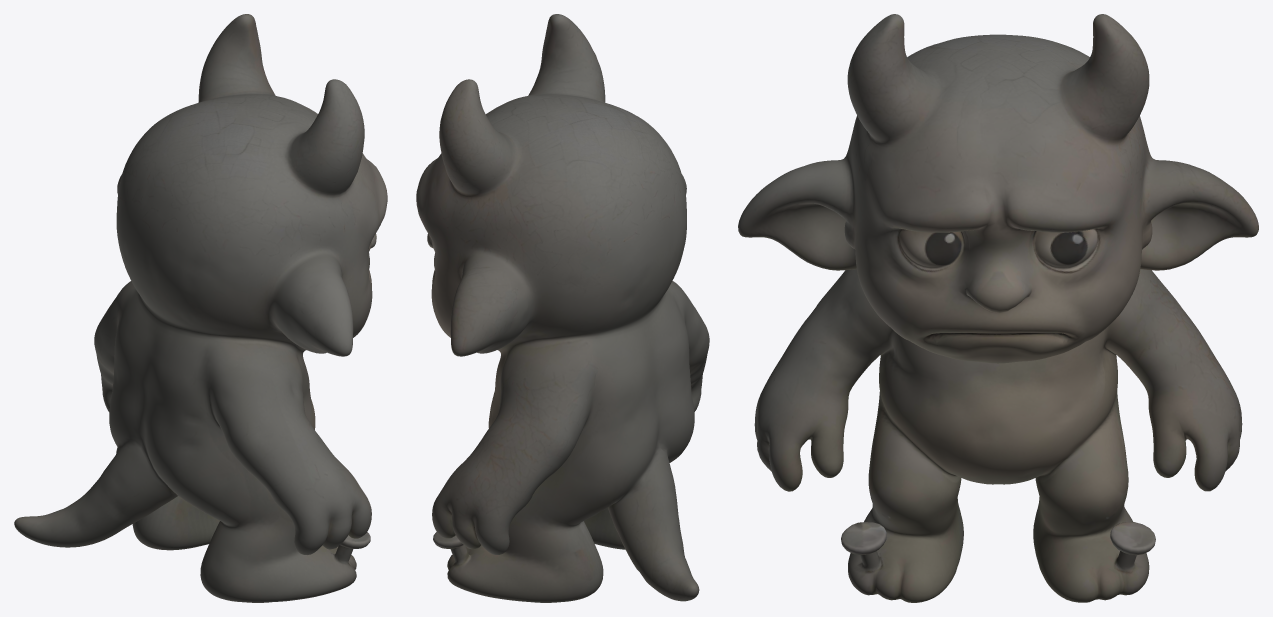
The model's file is tripo_convert_fcaa2d19-31c9-4803-8085-486072acb79c.obj.
3 views of the same model, side by side, from view 1: azimuth 30°, elevation 25°; view 2: azimuth 150°, elevation 25°; view 3: azimuth 270°, elevation 25° (orthographic). The views are drawn at different scales.
Parts seen in each view (by area): view 1: tripo_node_fcaa2d19-31c9-4803-8085-486072acb79c; view 2: tripo_node_fcaa2d19-31c9-4803-8085-486072acb79c; view 3: tripo_node_fcaa2d19-31c9-4803-8085-486072acb79c.
Boxes of the visible parts, x1,y1,x2,y2 form: tripo_node_fcaa2d19-31c9-4803-8085-486072acb79c: (14, 14, 387, 602); tripo_node_fcaa2d19-31c9-4803-8085-486072acb79c: (416, 14, 709, 602); tripo_node_fcaa2d19-31c9-4803-8085-486072acb79c: (738, 14, 1258, 602).
Size of the model in its own units: 0.6571 by 0.9998 by 0.8141.
Materials: 1 (1 with a texture image).
